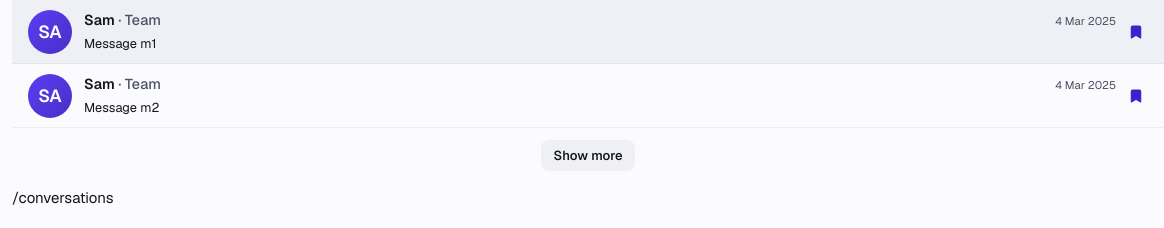
Test: SavedMessages › shows older saves on request
Click the button "Show more" at point(588, 156), box [541,140,635,172]
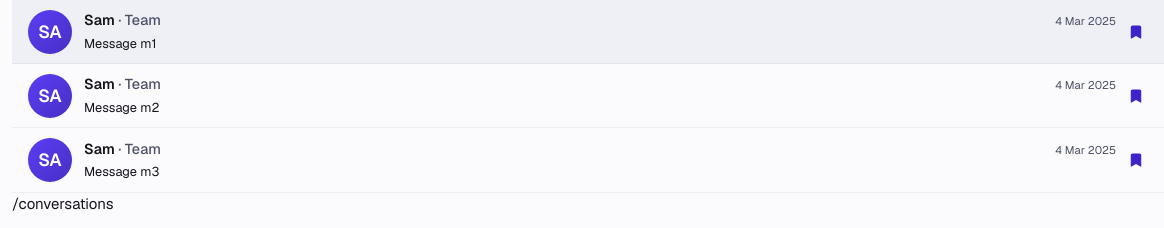
Now the text "Message m3" is shown, box [84,163,159,180]
Now the button "Show more" is gone
